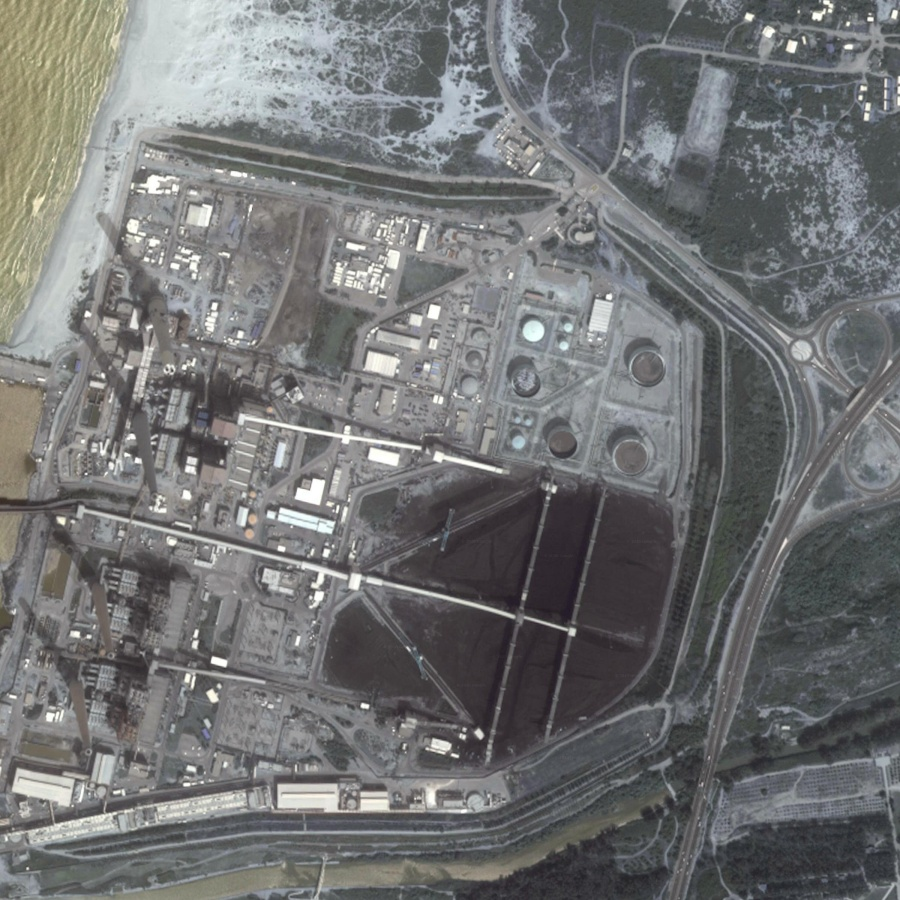PowerPlant: (318, 351, 679, 747)
